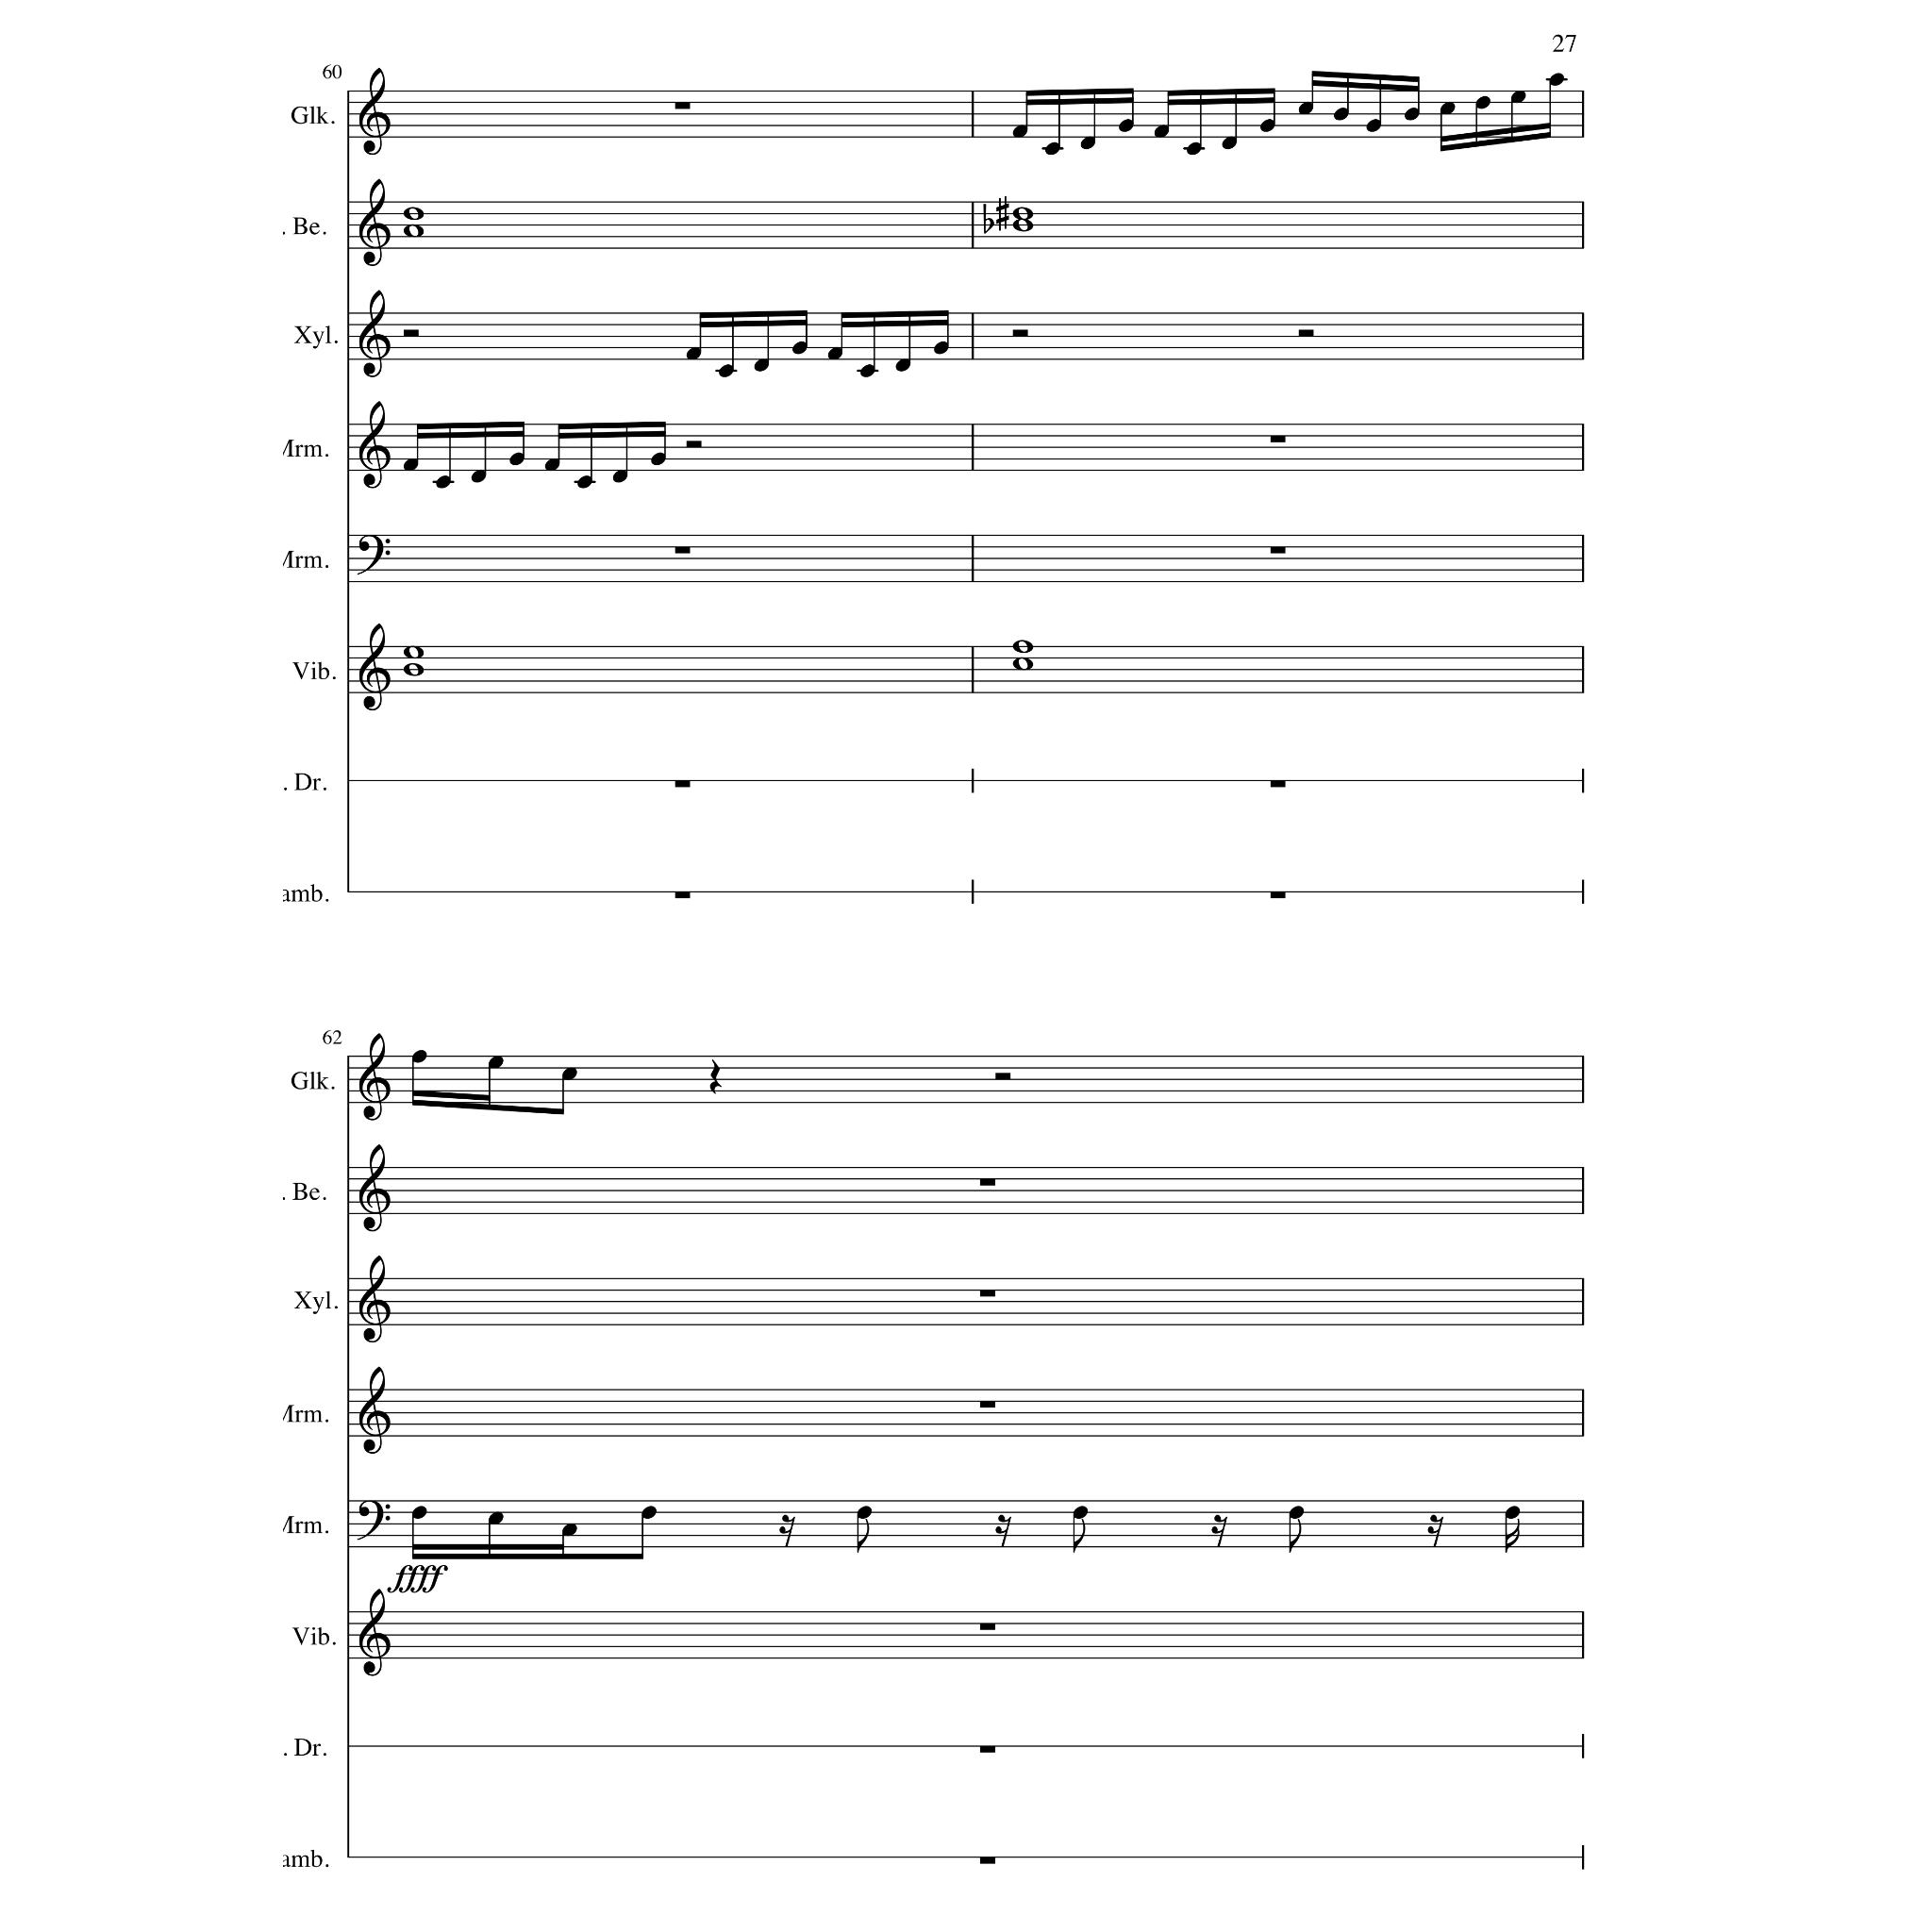fClef: (357, 536, 391, 575), (357, 1500, 391, 1540)
flag16thDown: (1506, 1519, 1519, 1553)
flag8thDown: (857, 1519, 870, 1553), (1289, 1519, 1302, 1553), (1074, 1519, 1085, 1553)
gClef: (358, 623, 391, 711), (358, 401, 391, 490), (358, 290, 391, 378), (358, 178, 391, 267), (358, 67, 391, 156), (358, 1366, 391, 1455), (358, 1033, 391, 1122), (358, 1143, 391, 1232), (358, 1255, 391, 1343), (358, 1588, 391, 1676)
noteheadBlack: (1258, 119, 1275, 134), (717, 364, 734, 379), (411, 1049, 428, 1064), (1119, 119, 1134, 134), (1366, 119, 1381, 134), (860, 364, 875, 379), (1079, 137, 1096, 150), (1011, 125, 1028, 139), (1043, 142, 1060, 156), (1185, 142, 1202, 156), (1153, 125, 1170, 139), (1509, 91, 1526, 104), (1332, 108, 1349, 121), (402, 458, 419, 472), (470, 470, 487, 483), (685, 347, 702, 360), (791, 341, 808, 355), (826, 347, 843, 360), (543, 458, 560, 472), (894, 358, 911, 372), (611, 470, 628, 483), (1072, 1506, 1089, 1519), (1504, 1506, 1521, 1519), (487, 1056, 504, 1069), (487, 1511, 504, 1524), (560, 1524, 577, 1537), (560, 1068, 577, 1081), (411, 1506, 428, 1519), (1222, 137, 1237, 150), (1549, 74, 1564, 87), (1298, 102, 1313, 115), (1475, 96, 1491, 109), (1440, 102, 1455, 115), (1404, 108, 1419, 121), (509, 453, 525, 466), (436, 475, 451, 489), (754, 358, 769, 372), (577, 475, 592, 489), (934, 341, 949, 355), (651, 453, 666, 466), (1289, 1506, 1304, 1519), (641, 1506, 657, 1519), (857, 1506, 872, 1519)
noteheadWhole: (1011, 640, 1034, 655), (402, 662, 425, 677), (1011, 658, 1034, 671), (1011, 219, 1034, 232), (1011, 208, 1034, 221), (402, 646, 425, 659), (402, 208, 425, 221), (402, 225, 425, 238)
rest16th: (995, 1515, 1012, 1547), (1211, 1515, 1228, 1547), (778, 1515, 795, 1547), (1427, 1515, 1444, 1547)
restHalf: (1011, 329, 1028, 337), (402, 329, 419, 337), (685, 441, 702, 448), (994, 1073, 1011, 1080), (1298, 329, 1313, 337)
restQuarter: (709, 1059, 723, 1095)
restWhole: (674, 891, 691, 899), (674, 780, 691, 788), (674, 547, 691, 555), (674, 102, 691, 109), (1270, 436, 1285, 443), (1270, 547, 1285, 555), (1270, 891, 1285, 899), (1270, 780, 1285, 788), (979, 1179, 994, 1187), (979, 1290, 994, 1297), (979, 1401, 994, 1408), (979, 1623, 994, 1630), (979, 1745, 994, 1753), (979, 1857, 994, 1864)
